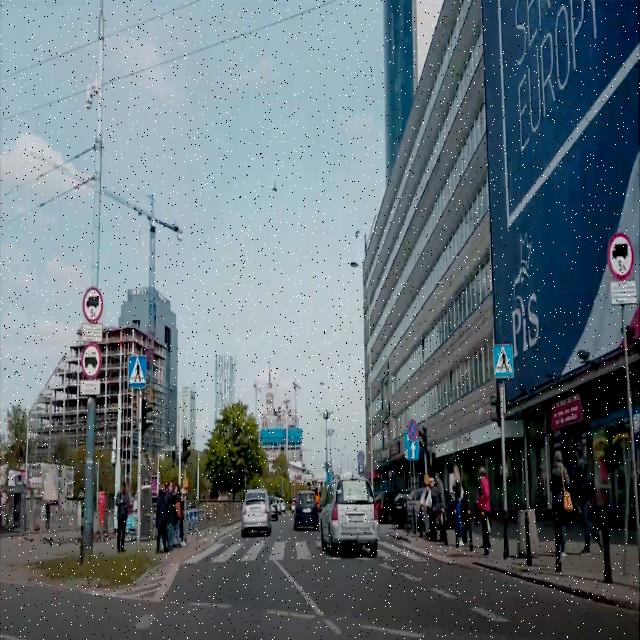Przejscie dla pieszych: (128, 354, 148, 391), (493, 344, 514, 379)
Zakaz zatrzymywania sie: (406, 418, 418, 441)
